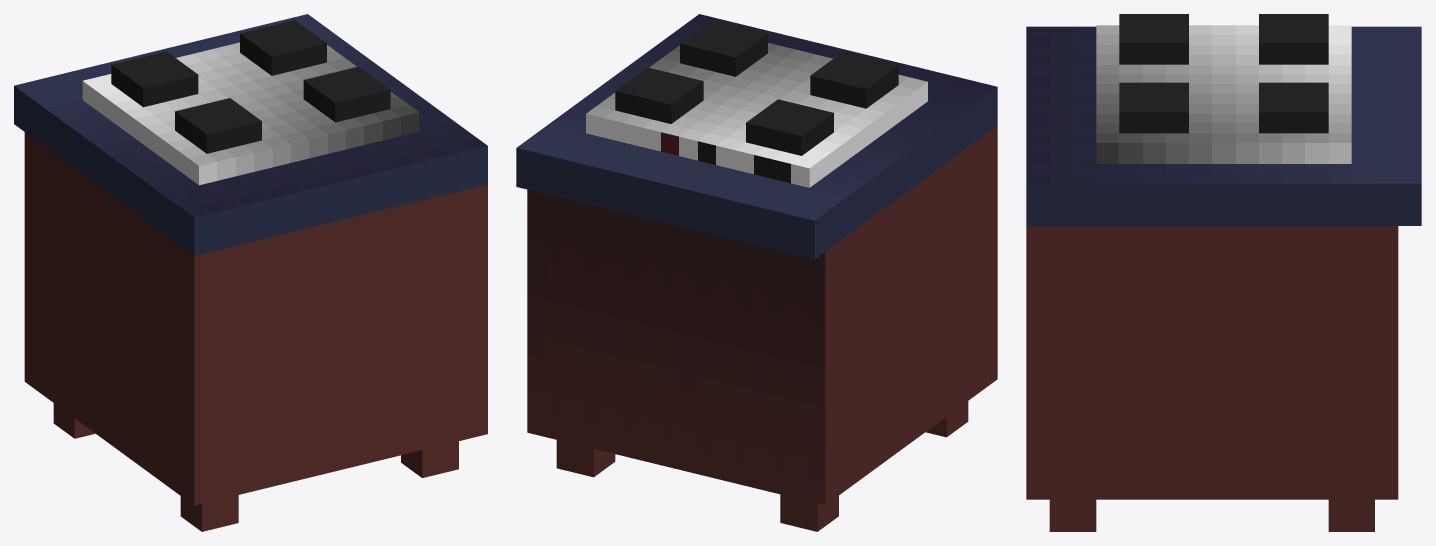
The model's file is KitchenStove.fbx.
3 renders of one model, left to right at view 1: azimuth 30°, elevation 25°; view 2: azimuth 150°, elevation 25°; view 3: azimuth 270°, elevation 25°, orthographic. The views are drawn at different scales.
Visible parts, largest first — view 1: cube_4, cube_5, cube_6, cube_7, cube_10, cube_9, cube_8, cube_3, cube_1, cube_2; view 2: cube_4, cube_5, cube_6, cube_9, cube_8, cube_10, cube_7, cube_2, cube, cube_3; view 3: cube_4, cube_5, cube_6, cube_7, cube_9, cube_8, cube_10, cube_1, cube.
Boxes of the visible parts, bbox=[...] form: cube_4: bbox=[24, 132, 487, 505]; cube_5: bbox=[14, 14, 487, 255]; cube_6: bbox=[82, 42, 419, 185]; cube_7: bbox=[303, 66, 390, 122]; cube_10: bbox=[111, 51, 198, 107]; cube_9: bbox=[240, 20, 326, 75]; cube_8: bbox=[175, 98, 261, 153]; cube_3: bbox=[180, 495, 238, 531]; cube_1: bbox=[401, 441, 458, 477]; cube_2: bbox=[53, 403, 95, 438]; cube_4: bbox=[527, 126, 997, 505]; cube_5: bbox=[516, 14, 997, 259]; cube_6: bbox=[586, 43, 927, 187]; cube_9: bbox=[615, 67, 703, 123]; cube_8: bbox=[810, 52, 898, 108]; cube_10: bbox=[746, 99, 833, 155]; cube_7: bbox=[680, 20, 767, 76]; cube_2: bbox=[780, 494, 838, 531]; cube: bbox=[556, 440, 615, 477]; cube_3: bbox=[925, 401, 968, 437]; cube_4: bbox=[1026, 226, 1398, 499]; cube_5: bbox=[1026, 26, 1421, 225]; cube_6: bbox=[1096, 25, 1351, 163]; cube_7: bbox=[1119, 82, 1188, 133]; cube_9: bbox=[1259, 82, 1328, 133]; cube_8: bbox=[1119, 14, 1188, 64]; cube_10: bbox=[1259, 14, 1328, 64]; cube_1: bbox=[1049, 499, 1096, 531]; cube: bbox=[1328, 499, 1374, 531].
Bounding box in the file's own units: 100 × 119 × 106.
Materials: 2 (2 with a texture image).
